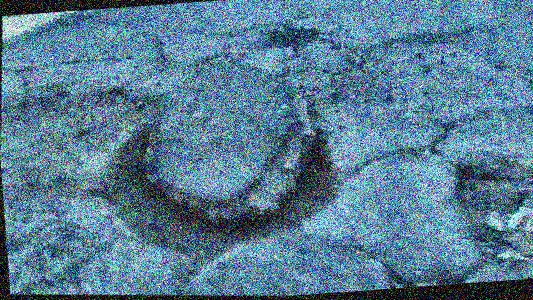pothole: (77, 88, 356, 284), (436, 145, 533, 281)
